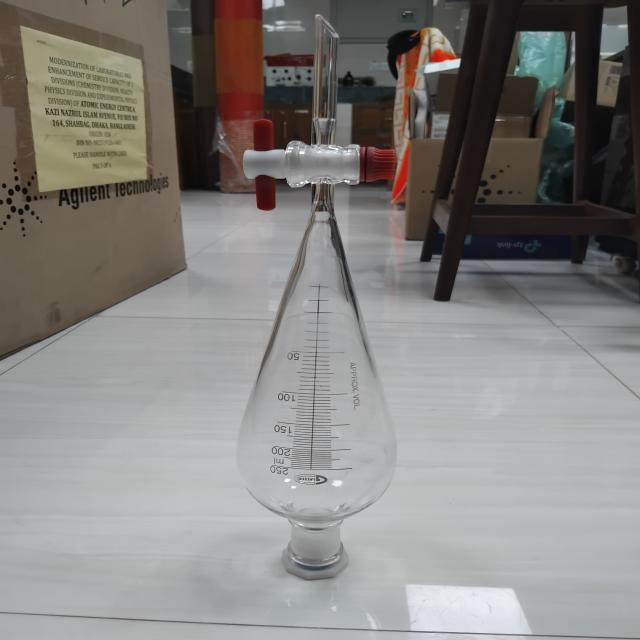Separating_Funnel: (198, 0, 448, 601)
